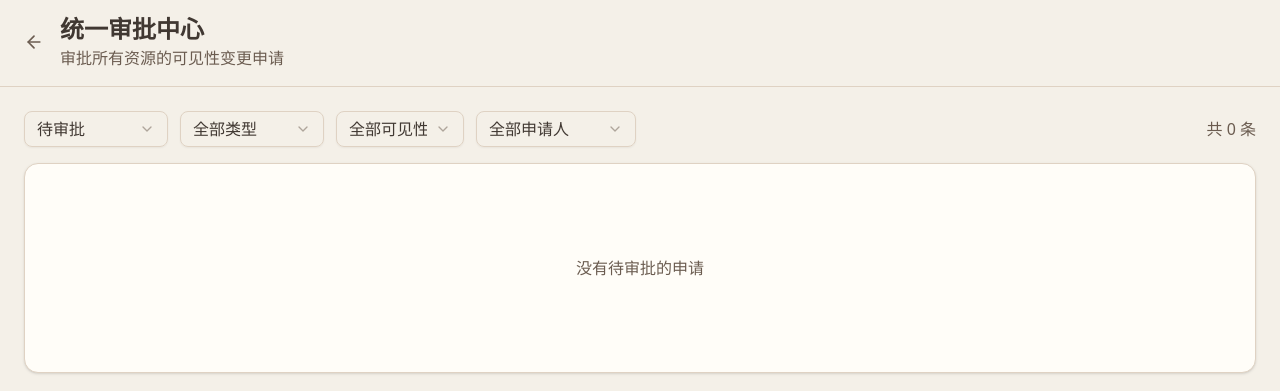
Test: VisibilityApplicationsPage › shows non-pending empty state
Expected: the text "没有待审批的申请" is shown, [576,256,704,280]
Click the dropdown labelled "待审批" at (96, 129), box [24,111,168,147]
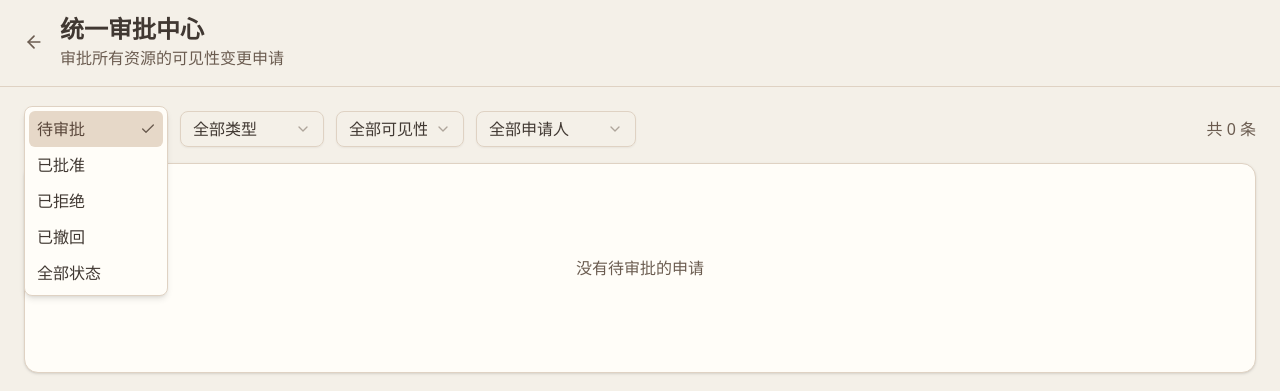
Click the option "全部状态" at (69, 273), box [37,262,101,284]
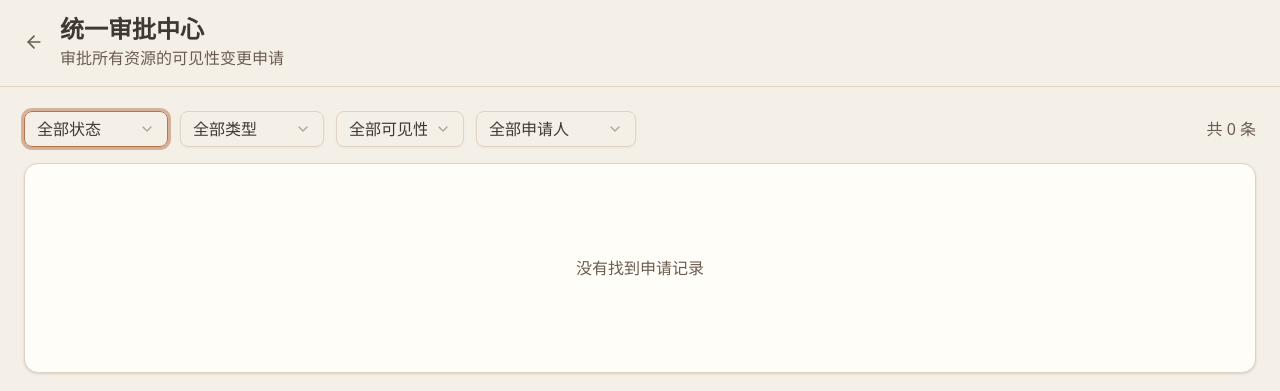
Expected: the text "没有找到申请记录" is shown, [576,256,704,280]
